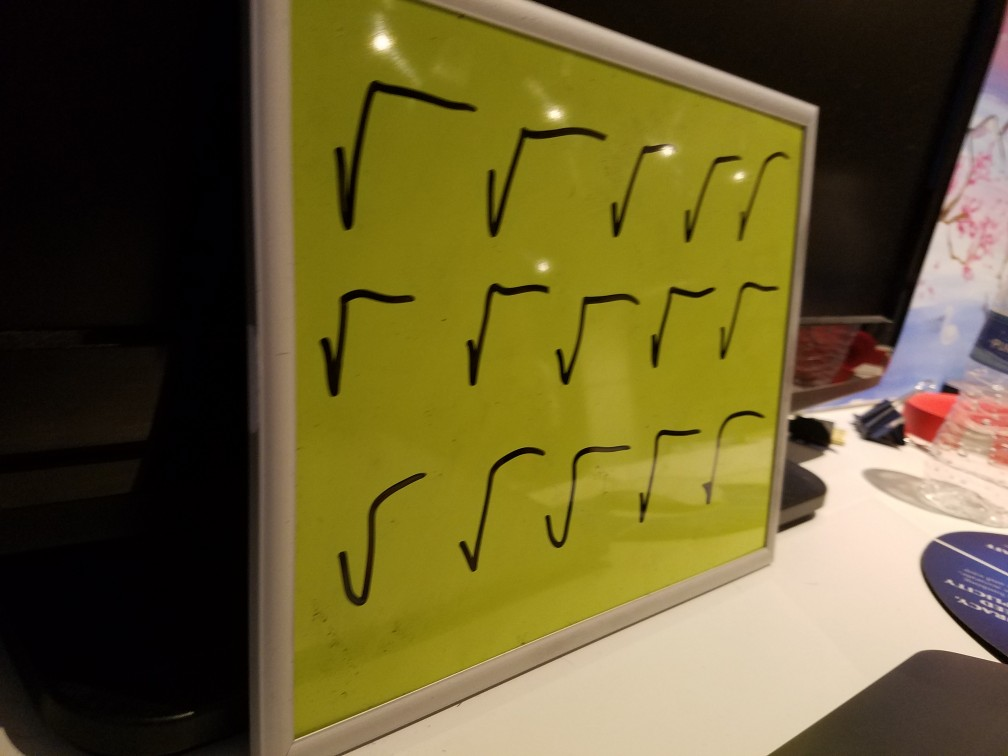sqrt: (313, 53, 468, 244), (310, 448, 426, 622), (476, 80, 599, 240), (306, 271, 417, 404), (458, 429, 544, 586), (454, 271, 548, 394), (544, 439, 628, 560), (558, 280, 642, 400), (604, 113, 668, 257), (634, 417, 704, 538), (701, 407, 766, 530), (675, 134, 732, 256), (715, 270, 781, 370), (736, 130, 788, 251), (651, 273, 715, 368)
